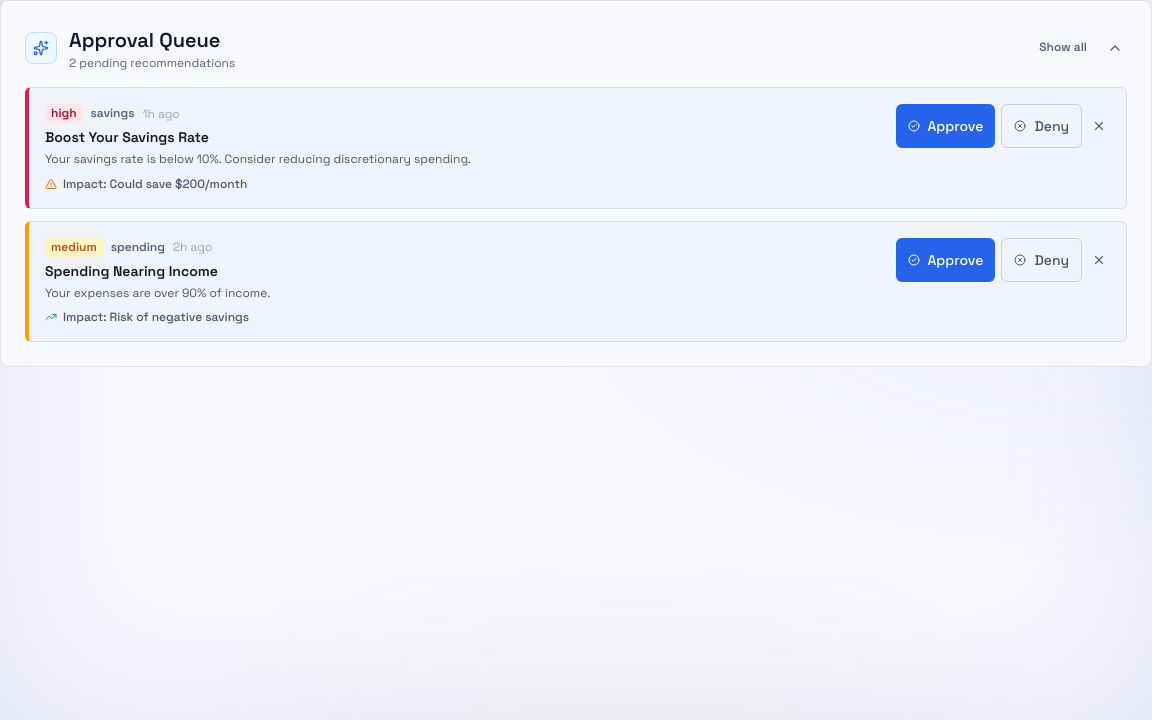
Test: ApprovalQueue › removes item from list after action in pending filter mode
The width and height of the screenshot is (1152, 720).
Expected: the heading "Boost Your Savings Rate" is shown, [45,128,209,146]
Click the button with test id "approval-queue-approve-1".
click(945, 126)  # box [896,104,995,148]
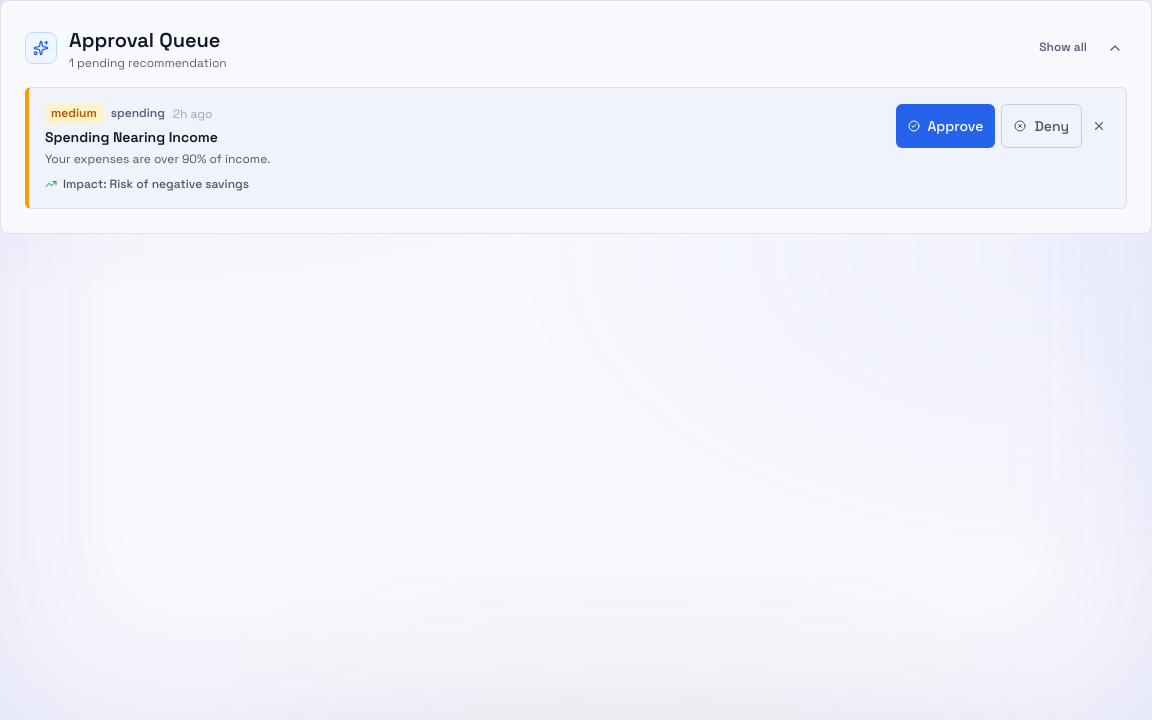
Expected: the heading "Spending Nearing Income" is shown, [45,128,218,146]
Now the heading "Boost Your Savings Rate" is gone
